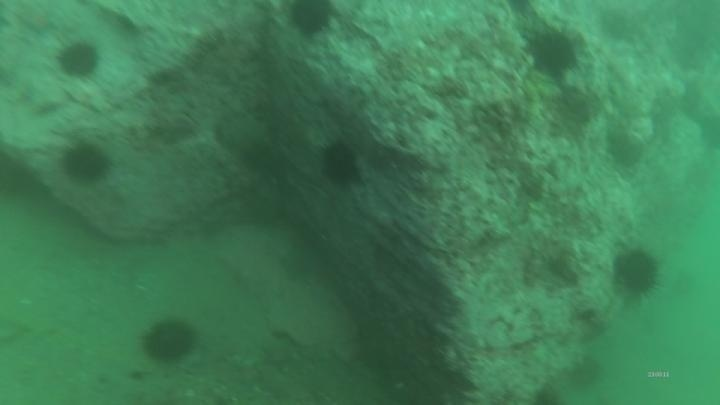echinus: (524, 25, 582, 79), (139, 316, 199, 365), (611, 245, 663, 300), (59, 140, 113, 186), (318, 138, 362, 188), (285, 1, 337, 39), (55, 39, 102, 81), (565, 354, 605, 392)
starfish: (18, 7, 61, 38)
